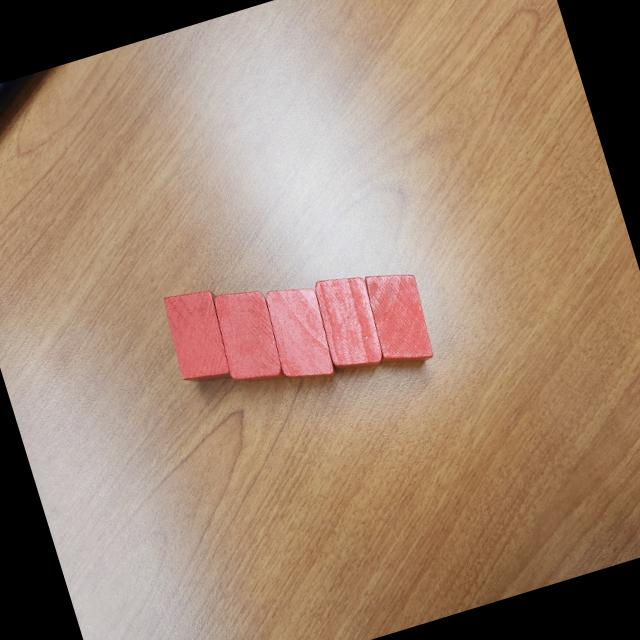red: (157, 282, 240, 390), (213, 293, 285, 384), (266, 288, 333, 378), (315, 277, 380, 367), (366, 274, 432, 362)
